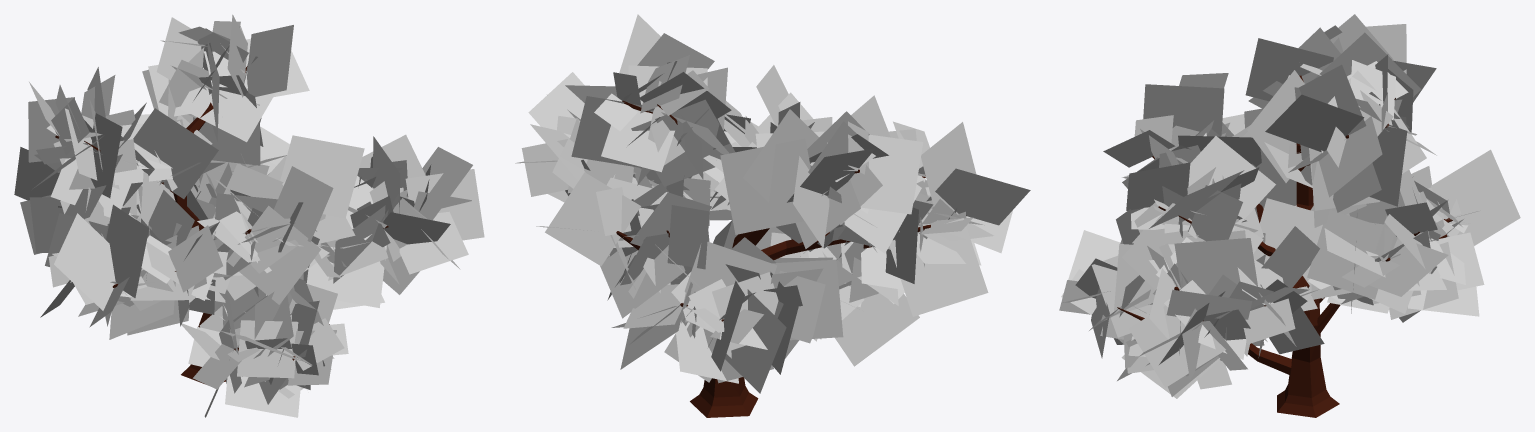
File: WizardTree.obj
3 renders of one model, left to right at view 1: azimuth 30°, elevation 25°; view 2: azimuth 150°, elevation 25°; view 3: azimuth 270°, elevation 25°, orthographic. The views are drawn at different scales.
Parts seen in each view (by area): view 1: Wizard_tree_Circle; view 2: Wizard_tree_Circle; view 3: Wizard_tree_Circle.
Boxes of the visible parts, bbox=[...] form: Wizard_tree_Circle: bbox=[14, 14, 484, 417]; Wizard_tree_Circle: bbox=[515, 14, 1030, 417]; Wizard_tree_Circle: bbox=[1059, 14, 1520, 417].
Bounding box in the file's own units: 24.05 × 18.1 × 21.09.
